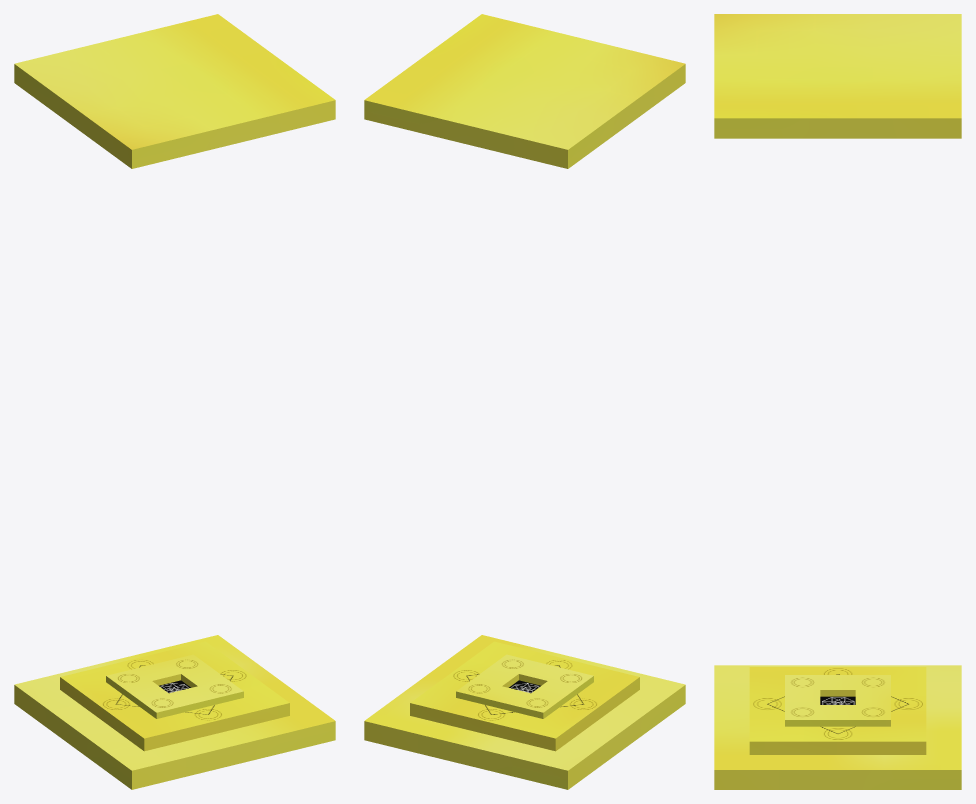
File: blockAdvancedTank.obj
3 views of the same model, side by side, from view 1: azimuth 30°, elevation 25°; view 2: azimuth 150°, elevation 25°; view 3: azimuth 270°, elevation 25° (orthographic). The views are drawn at different scales.
Parts seen in each view (by area): view 1: Cube.001_Cube.011; view 2: Cube.001_Cube.011; view 3: Cube.001_Cube.011.
Boxes of the visible parts, left/top/right/bottom form: Cube.001_Cube.011: left=14, top=14, right=335, bottom=789; Cube.001_Cube.011: left=364, top=14, right=685, bottom=789; Cube.001_Cube.011: left=714, top=14, right=961, bottom=789.
Bounding box in the file's own units: 0.3333 × 1 × 0.3333.
